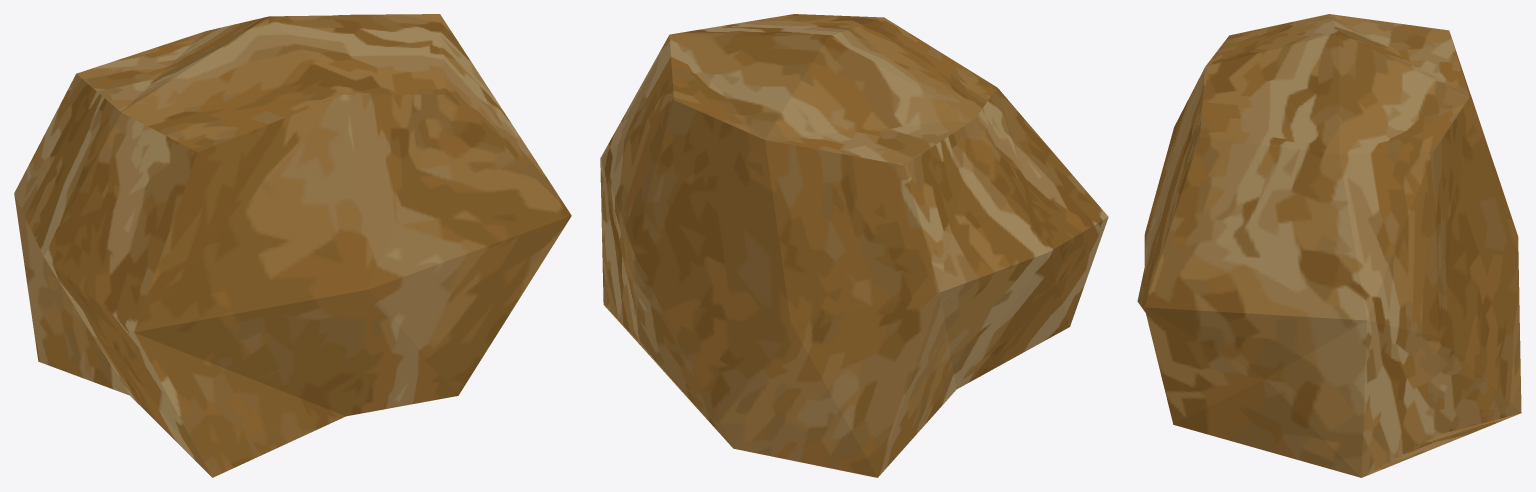
File: pedrolo1.glb
3 views of the same model, side by side, from view 1: azimuth 30°, elevation 25°; view 2: azimuth 150°, elevation 25°; view 3: azimuth 270°, elevation 25° (orthographic). The views are drawn at different scales.
Parts seen in each view (by area): view 1: hojas1; view 2: hojas1; view 3: hojas1.
Boxes of the visible parts, left/top/right/bottom form: hojas1: left=14, top=14, right=571, bottom=477; hojas1: left=600, top=14, right=1108, bottom=477; hojas1: left=1137, top=14, right=1521, bottom=477.
Bounding box in the file's own units: 18.61 × 14.57 × 13.52.
1 material, 1 textured.
